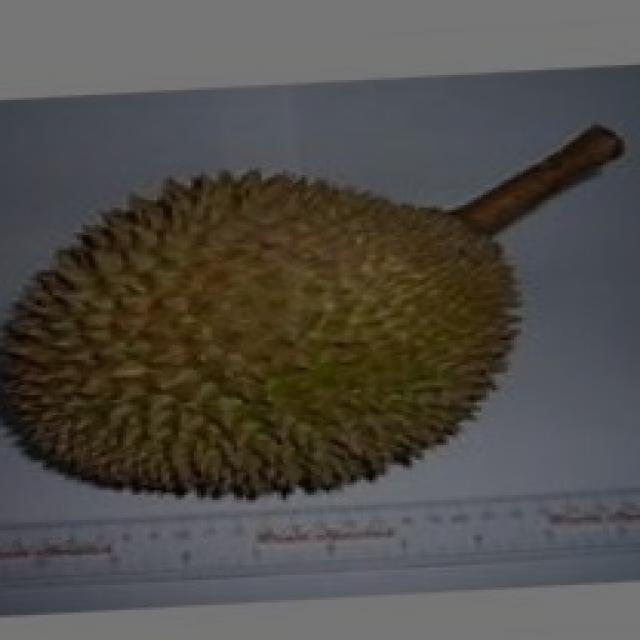fruit: (160, 120, 563, 535), (0, 138, 369, 542)
